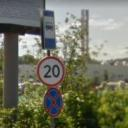speed_limit_20: (35, 55, 67, 87)
